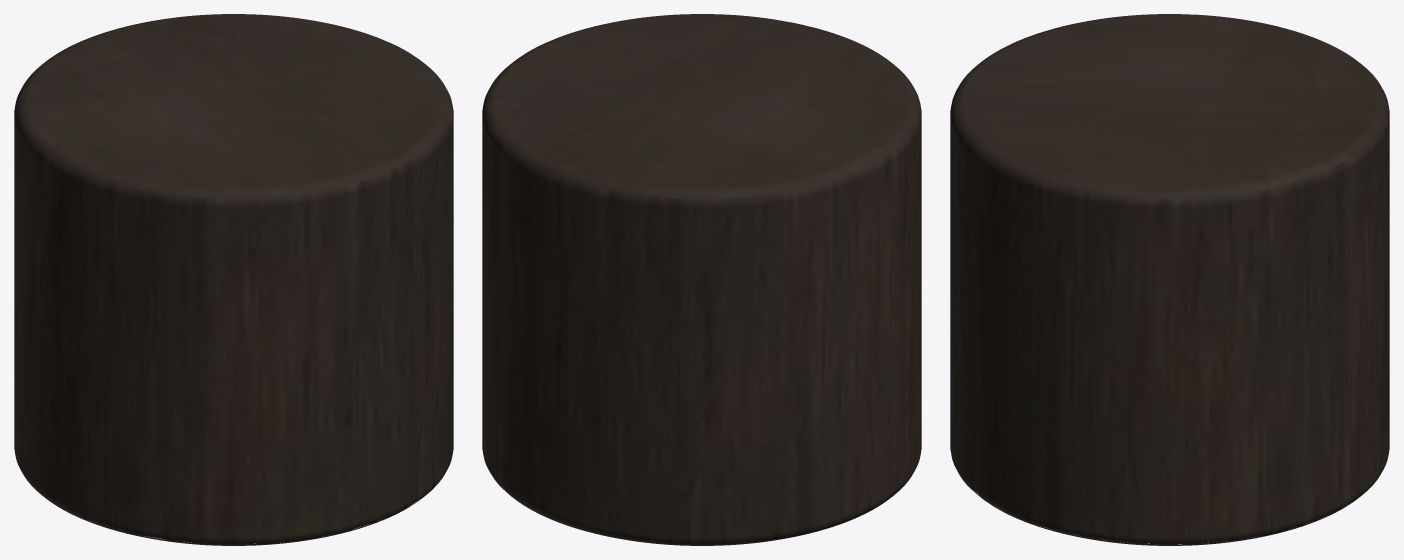
The model's file is cylindra_pesec_cerny.glb.
3 views of the same model, side by side, from view 1: azimuth 30°, elevation 25°; view 2: azimuth 150°, elevation 25°; view 3: azimuth 270°, elevation 25° (orthographic).
Visible parts, largest first — view 1: Cylindra_Pěšec_černý; view 2: Cylindra_Pěšec_černý; view 3: Cylindra_Pěšec_černý.
Boxes of the visible parts, x1,y1,x2,y2 form: Cylindra_Pěšec_černý: (14,14,453,545); Cylindra_Pěšec_černý: (482,14,921,545); Cylindra_Pěšec_černý: (950,14,1389,545).
Size of the model in its own units: 0.028 by 0.025 by 0.028.
Materials: 2 (2 with a texture image).
